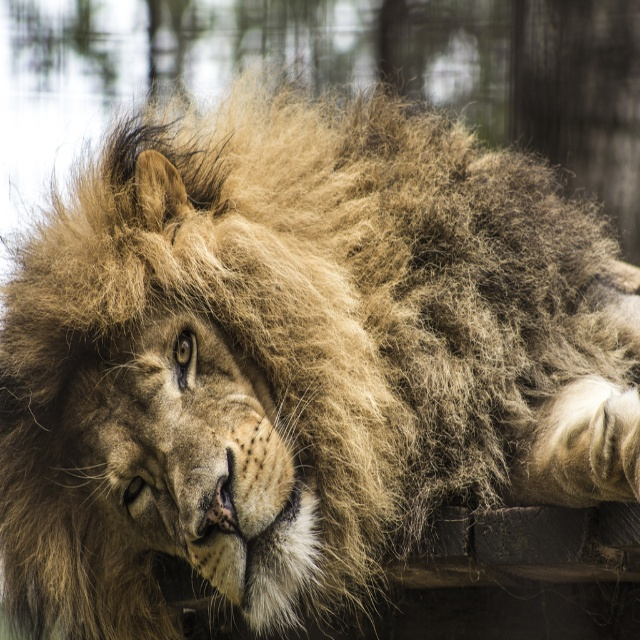Lion: (0, 40, 640, 639)
